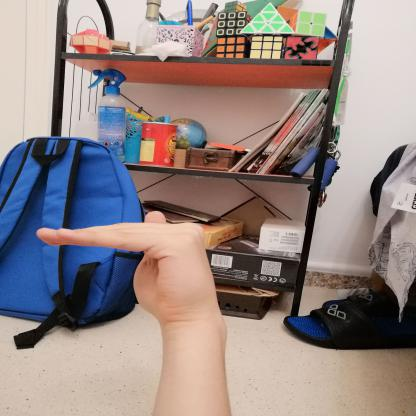KHAA: (26, 206, 233, 330)
